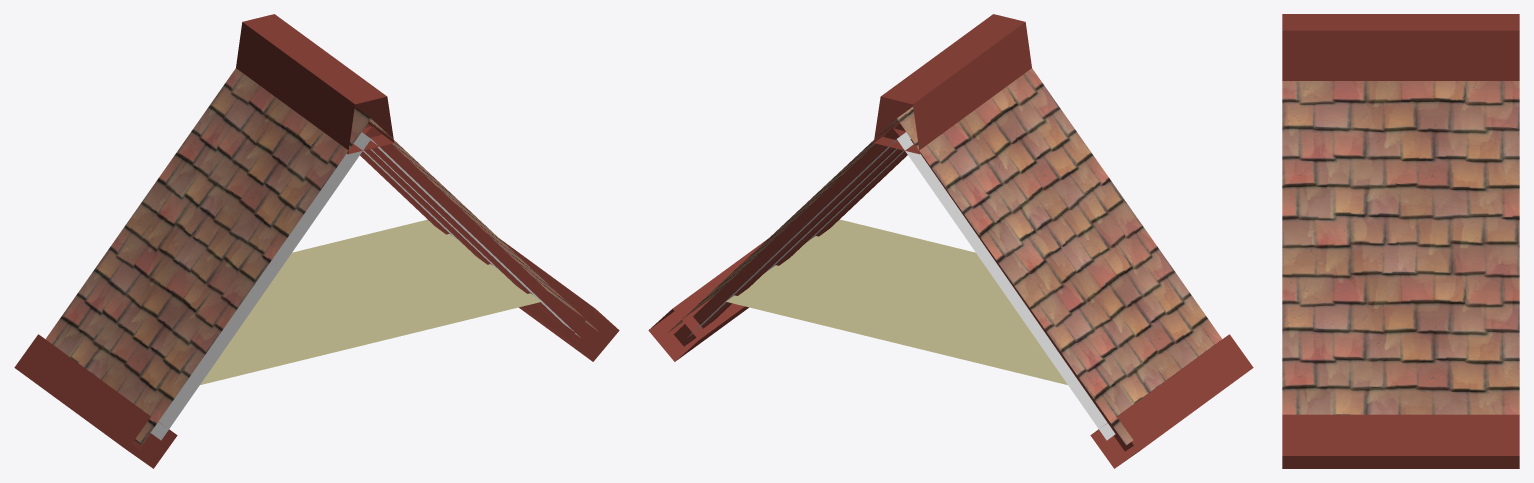
The model's file is roof_8x4x4.fbx.
3 views of the same model, side by side, from view 1: azimuth 30°, elevation 25°; view 2: azimuth 150°, elevation 25°; view 3: azimuth 270°, elevation 25° (orthographic). The views are drawn at different scales.
Parts seen in each view (by area): view 1: roof_8x4x4; view 2: roof_8x4x4; view 3: roof_8x4x4.
Boxes of the visible parts, box(x1,y1,x2,y2) form: roof_8x4x4: box(14, 14, 619, 468); roof_8x4x4: box(648, 14, 1253, 468); roof_8x4x4: box(1282, 14, 1519, 468).
Size of the model in its own units: 1008 by 618 by 400.
